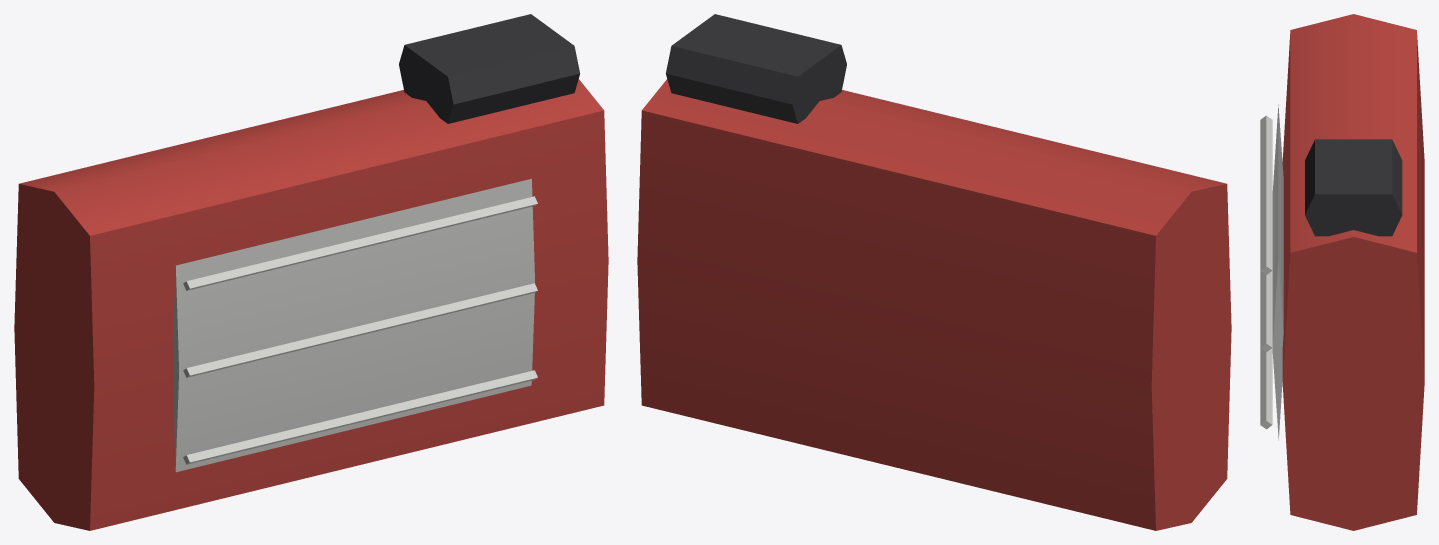
The picture shows the model from 3 angles, left to right: view 1: azimuth 30°, elevation 25°; view 2: azimuth 150°, elevation 25°; view 3: azimuth 270°, elevation 25°; orthographic projection. The views are drawn at different scales.
Visible parts, largest first — view 1: box_lod1; view 2: box_lod1; view 3: box_lod1.
Part boxes in pixels (x1=…): box_lod1: x1=14, y1=14, x2=608, y2=530; box_lod1: x1=637, y1=14, x2=1231, y2=530; box_lod1: x1=1260, y1=14, x2=1424, y2=530.
Size of the model in its own units: 0.13 by 0.0897 by 0.0405.
